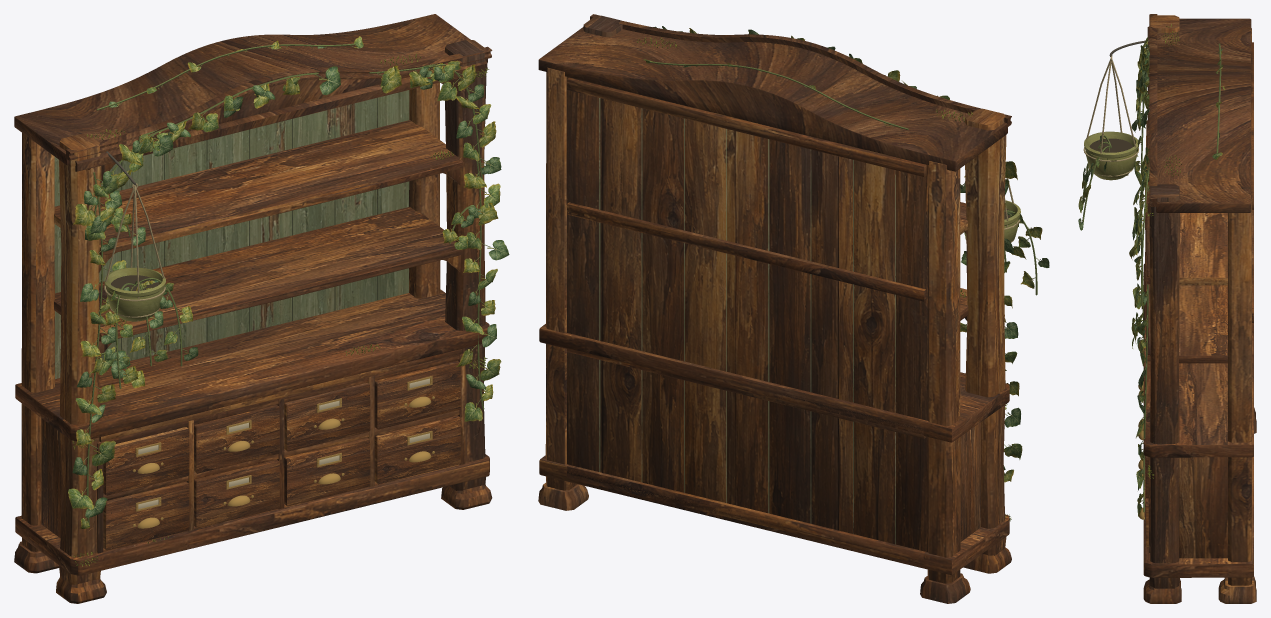
File: CM_MasterMedicineCabinet01.glb
3 views of the same model, side by side, from view 1: azimuth 30°, elevation 25°; view 2: azimuth 150°, elevation 25°; view 3: azimuth 270°, elevation 25° (orthographic). The views are drawn at different scales.
Parts seen in each view (by area): view 1: CM_MMC01_MainStructure, CM_MMC01_Shelves, CM_MMC01_Drawers, CM_MMC01_Backing, CM_MMC01_TrailingVines, CM_MMC01_HangingPlanter, CM_MMC01_Hardware, CM_MMC01_Moss; view 2: CM_MMC01_Backing, CM_MMC01_MainStructure, CM_MMC01_Shelves, CM_MMC01_TrailingVines, CM_MMC01_HangingPlanter; view 3: CM_MMC01_MainStructure, CM_MMC01_Shelves, CM_MMC01_TrailingVines, CM_MMC01_HangingPlanter, CM_MMC01_Backing, CM_MMC01_Drawers, CM_MMC01_Moss, CM_MMC01_Hardware.
Part boxes in pixels (x1=…): CM_MMC01_MainStructure: x1=14, y1=14, x2=492, y2=603; CM_MMC01_Shelves: x1=15, y1=120, x2=489, y2=441; CM_MMC01_Drawers: x1=103, y1=360, x2=460, y2=550; CM_MMC01_Backing: x1=54, y1=90, x2=409, y2=379; CM_MMC01_TrailingVines: x1=68, y1=36, x2=509, y2=528; CM_MMC01_HangingPlanter: x1=104, y1=151, x2=198, y2=388; CM_MMC01_Hardware: x1=133, y1=376, x2=434, y2=528; CM_MMC01_Moss: x1=72, y1=53, x2=489, y2=566; CM_MMC01_Backing: x1=566, y1=77, x2=928, y2=564; CM_MMC01_MainStructure: x1=538, y1=14, x2=1011, y2=603; CM_MMC01_Shelves: x1=539, y1=202, x2=1009, y2=442; CM_MMC01_TrailingVines: x1=643, y1=26, x2=1022, y2=482; CM_MMC01_HangingPlanter: x1=961, y1=178, x2=1049, y2=295; CM_MMC01_MainStructure: x1=1143, y1=14, x2=1256, y2=603; CM_MMC01_Shelves: x1=1143, y1=120, x2=1253, y2=457; CM_MMC01_TrailingVines: x1=1129, y1=37, x2=1225, y2=516; CM_MMC01_HangingPlanter: x1=1078, y1=40, x2=1149, y2=230; CM_MMC01_Backing: x1=1251, y1=42, x2=1253, y2=551; CM_MMC01_Drawers: x1=1144, y1=456, x2=1148, y2=547; CM_MMC01_Moss: x1=1143, y1=24, x2=1182, y2=478; CM_MMC01_Hardware: x1=1138, y1=341, x2=1144, y2=519.
Bounding box in the file's own units: 1.88 × 1.94 × 0.7334.
12 materials, 6 textured.
